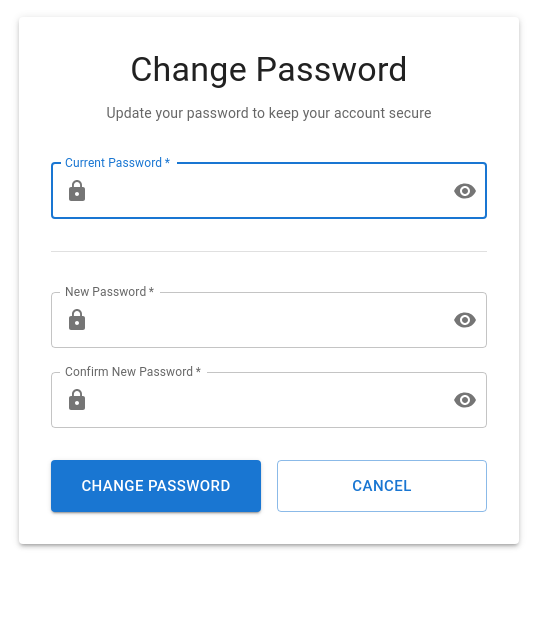
Test: PasswordChangeForm › submits form with valid data
Type "currentpass123" into the password field labelled "Current Password *" at (267, 191), box [97, 163, 437, 219]
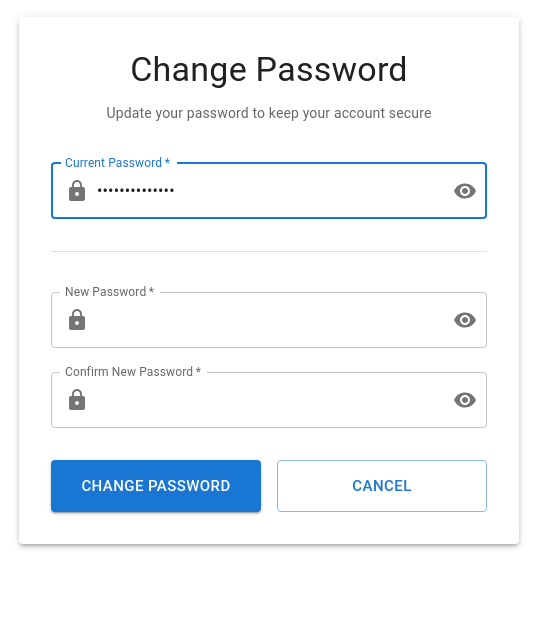
Type "NewPassword123!" into the password field labelled "New Password *" at (267, 320), box [97, 292, 437, 348]
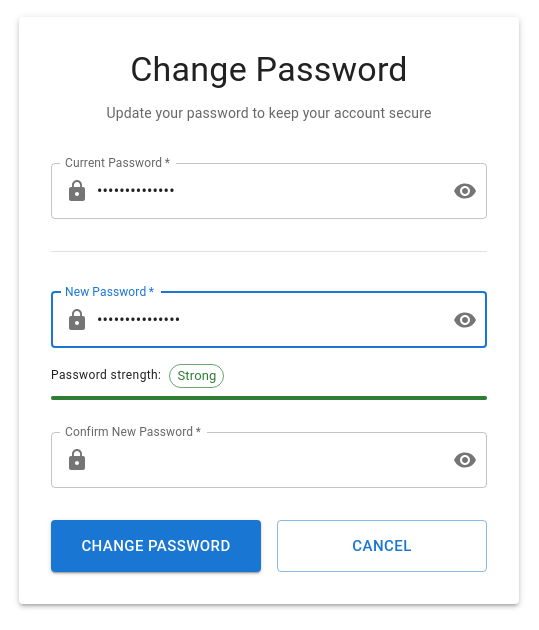
Type "NewPassword123!" into the password field labelled "Confirm New Password *" at (267, 460), box [97, 432, 437, 488]
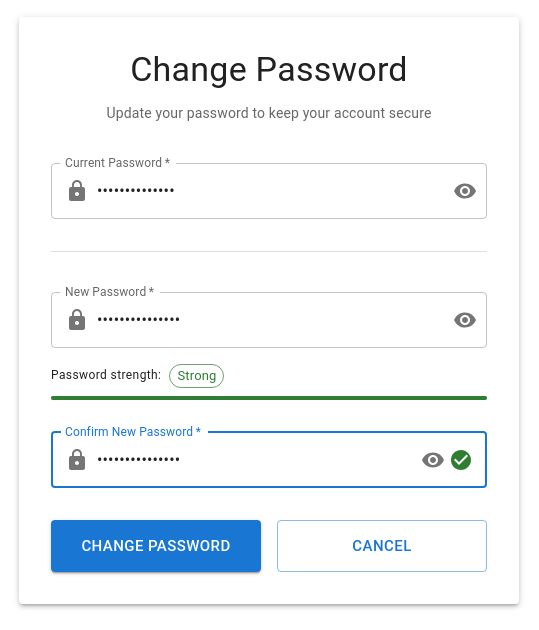
Click the button "Change Password" at (156, 546), box [51, 520, 261, 572]
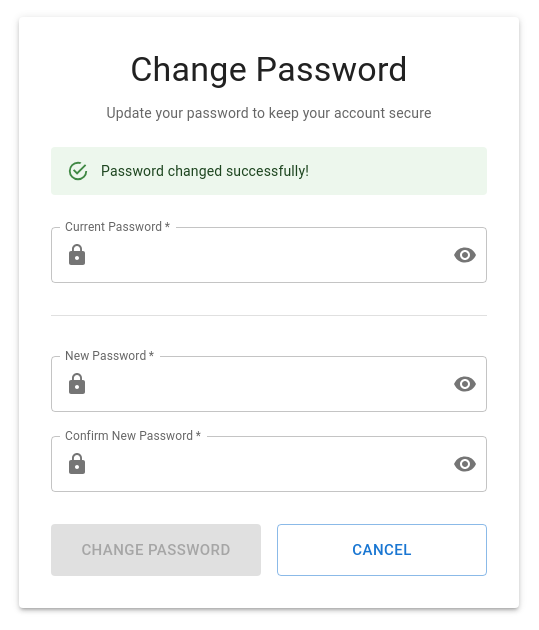
Expected: the text "Password changed successfully!" is shown, [101, 163, 309, 179]
